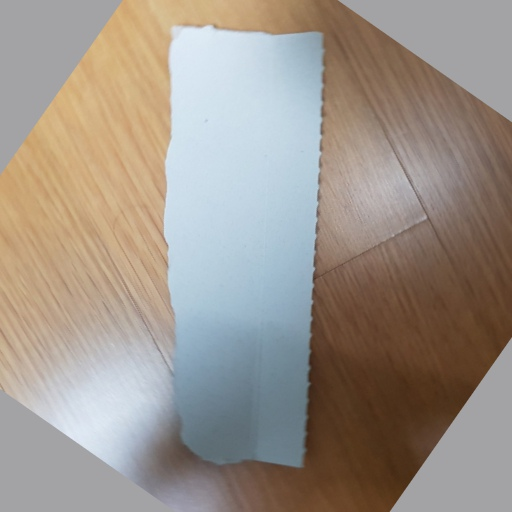Paper_2: (160, 19, 326, 481)
